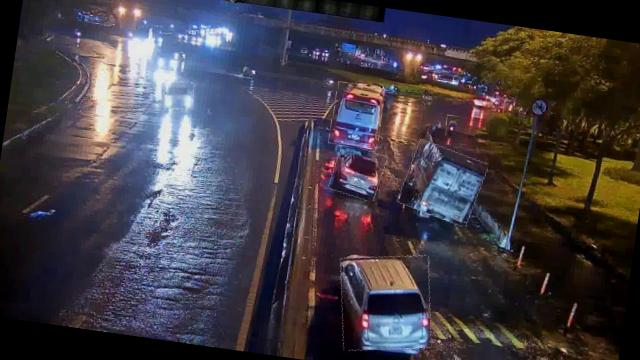Bike: (445, 114, 461, 138)
Bus: (328, 81, 385, 150)
Car: (332, 247, 439, 358), (328, 143, 386, 201), (158, 79, 195, 111)
Truck: (398, 141, 488, 225)
